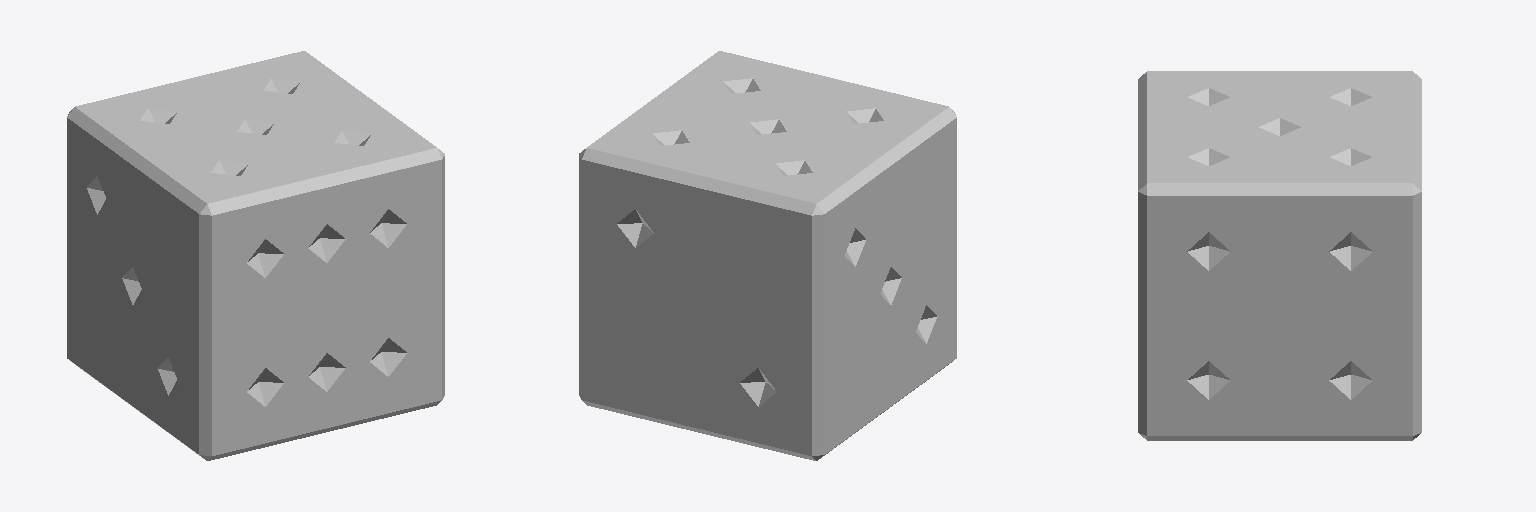
File: CUBEDICE.obj
The picture shows the model from 3 angles: view 1: azimuth 30°, elevation 25°; view 2: azimuth 150°, elevation 25°; view 3: azimuth 270°, elevation 25°; orthographic projection.
Parts seen in each view (by area): view 1: Object.1; view 2: Object.1; view 3: Object.1.
Boxes of the visible parts, x1,y1,x2,y2 form: Object.1: [67, 51, 444, 460]; Object.1: [579, 51, 956, 460]; Object.1: [1138, 71, 1421, 440].
Bounding box in the file's own units: 24.86 × 24.86 × 24.86.